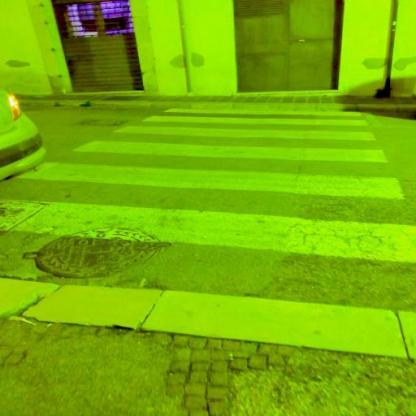crosswalk: (70, 124, 393, 167)
